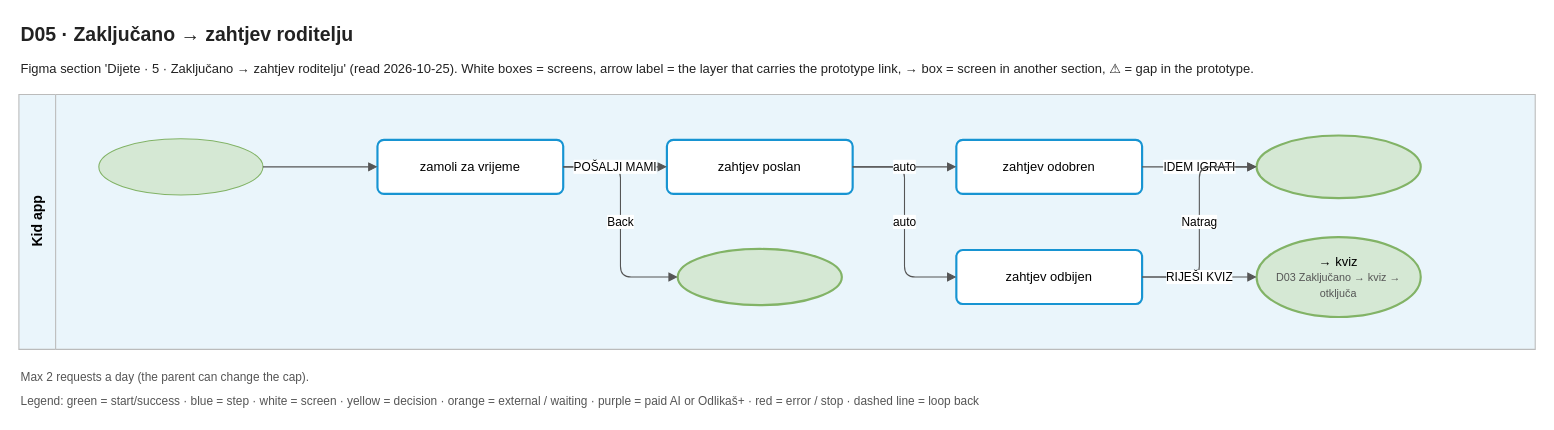
This 1554x430 diagram has some shape labels left out. Here are the shapes that lost their labels. From the top down, the box of each, then its label:
(98, 138, 263, 195): from D03
(1255, 134, 1421, 199): → početna D02 Početna i navigacija
(676, 247, 842, 306): ← Back
